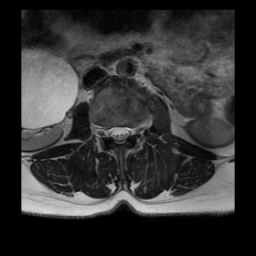CCS_normal: (116, 118, 123, 150)
LFS_normal: (130, 117, 137, 142)
LLS_normal: (123, 118, 130, 145)
RFS_normal: (100, 118, 109, 143)
RLS_normal: (109, 118, 116, 146)
